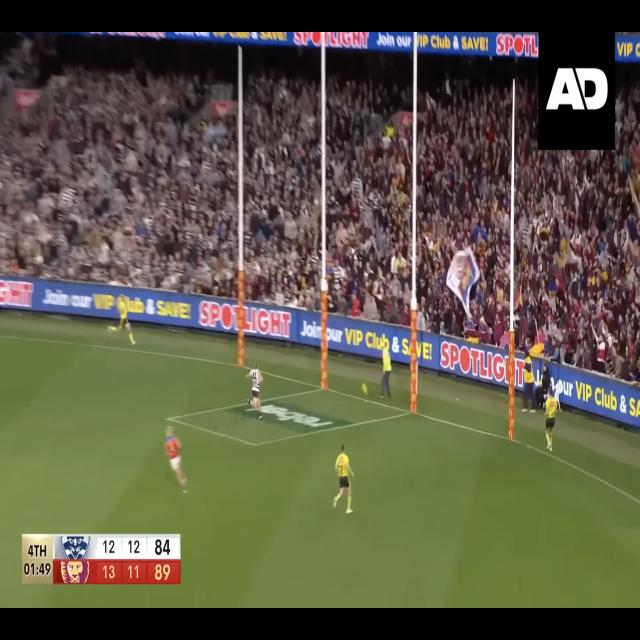crowd: (0, 41, 238, 298), (514, 64, 640, 382), (418, 67, 513, 352), (323, 57, 415, 325), (242, 56, 320, 304)
